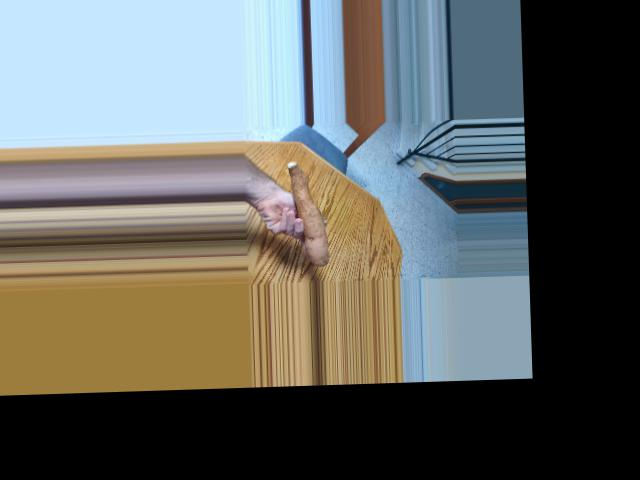sweet_potato: (280, 161, 334, 264)
